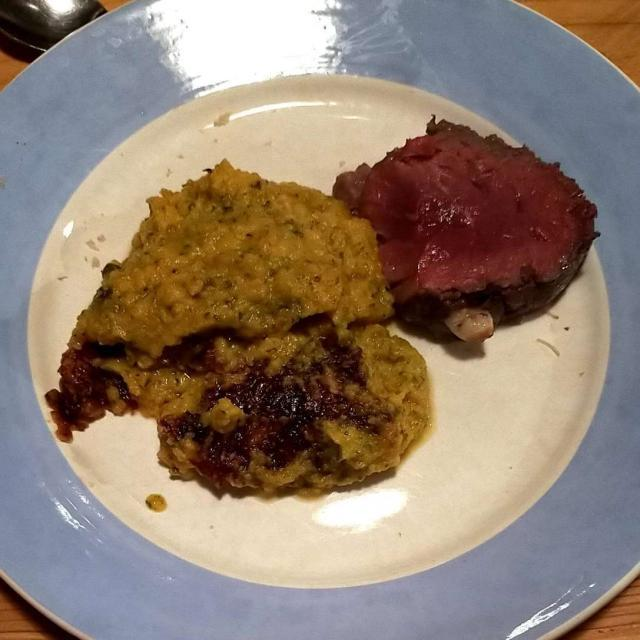beef: (339, 112, 613, 341)
vegetables-baked: (46, 139, 448, 498)
